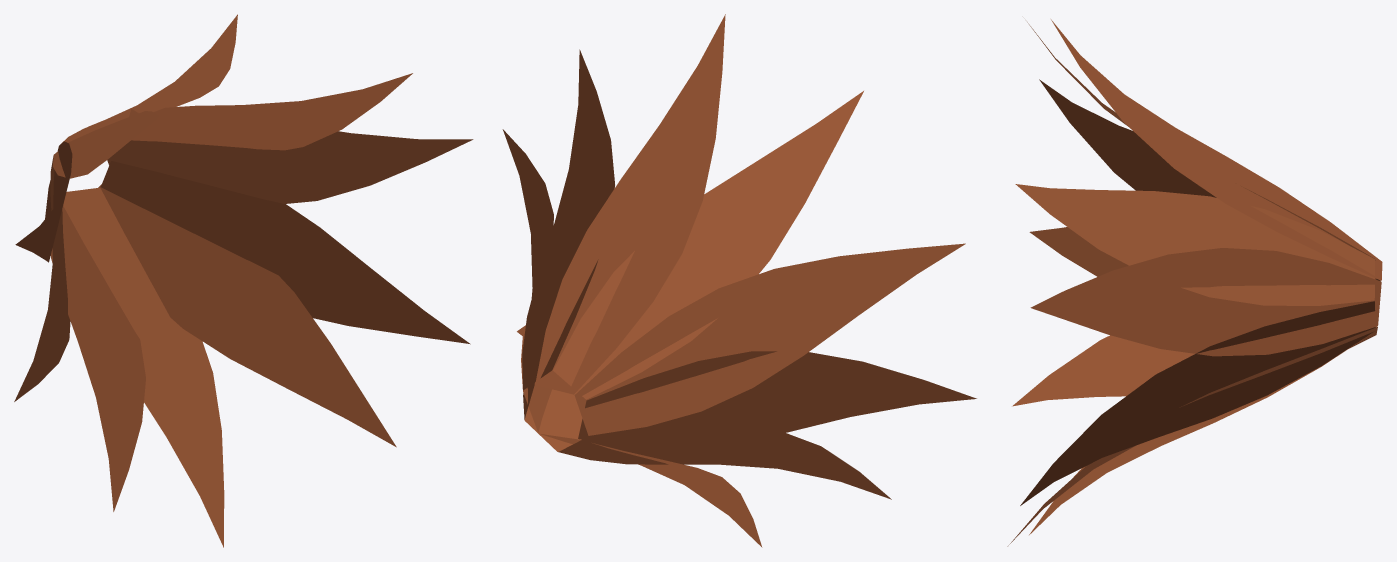
3 views of the same model, side by side, from view 1: azimuth 30°, elevation 25°; view 2: azimuth 150°, elevation 25°; view 3: azimuth 270°, elevation 25° (orthographic). The views are drawn at different scales.
Parts seen in each view (by area): view 1: brush_Petal_g0_b0; view 2: brush_Petal_g0_b0; view 3: brush_Petal_g0_b0.
Boxes of the visible parts, x1,y1,x2,y2 form: brush_Petal_g0_b0: [14, 14, 473, 547]; brush_Petal_g0_b0: [502, 14, 976, 547]; brush_Petal_g0_b0: [1007, 19, 1382, 546].
Bounding box in the file's own units: 2.89 × 3.12 × 2.
